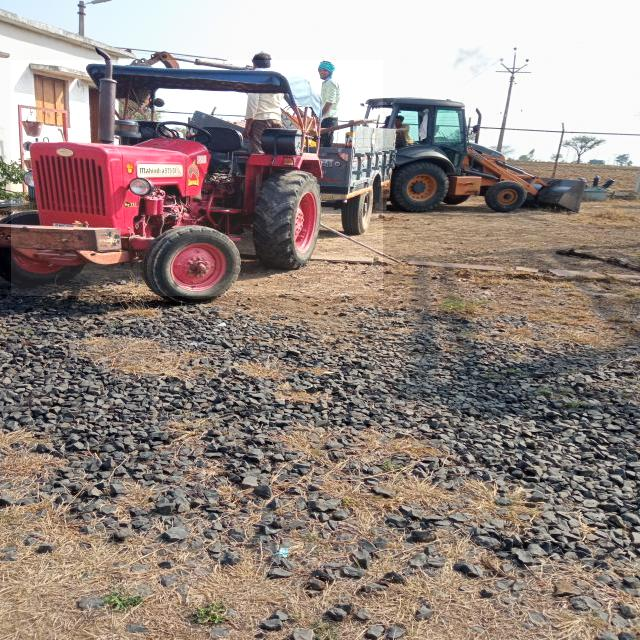Tractot: (11, 60, 384, 296)
